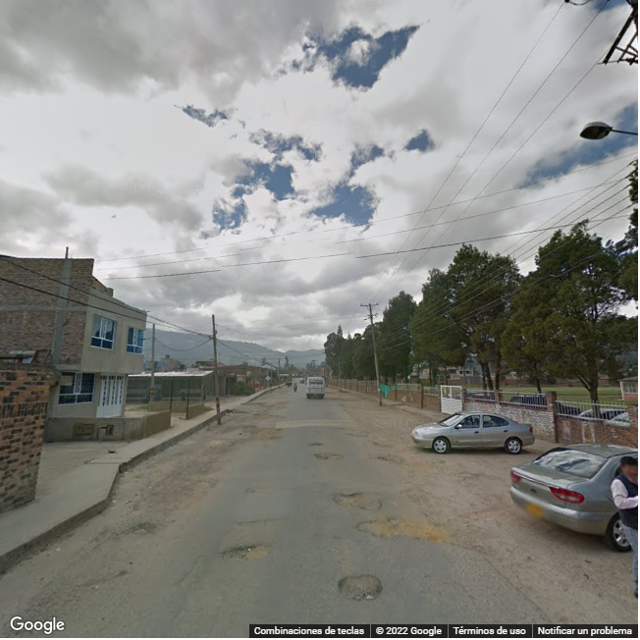D00: (191, 585, 234, 636)
D10: (233, 509, 287, 530)
D40: (350, 516, 453, 543), (333, 570, 388, 606), (218, 541, 274, 564), (332, 488, 383, 512)
